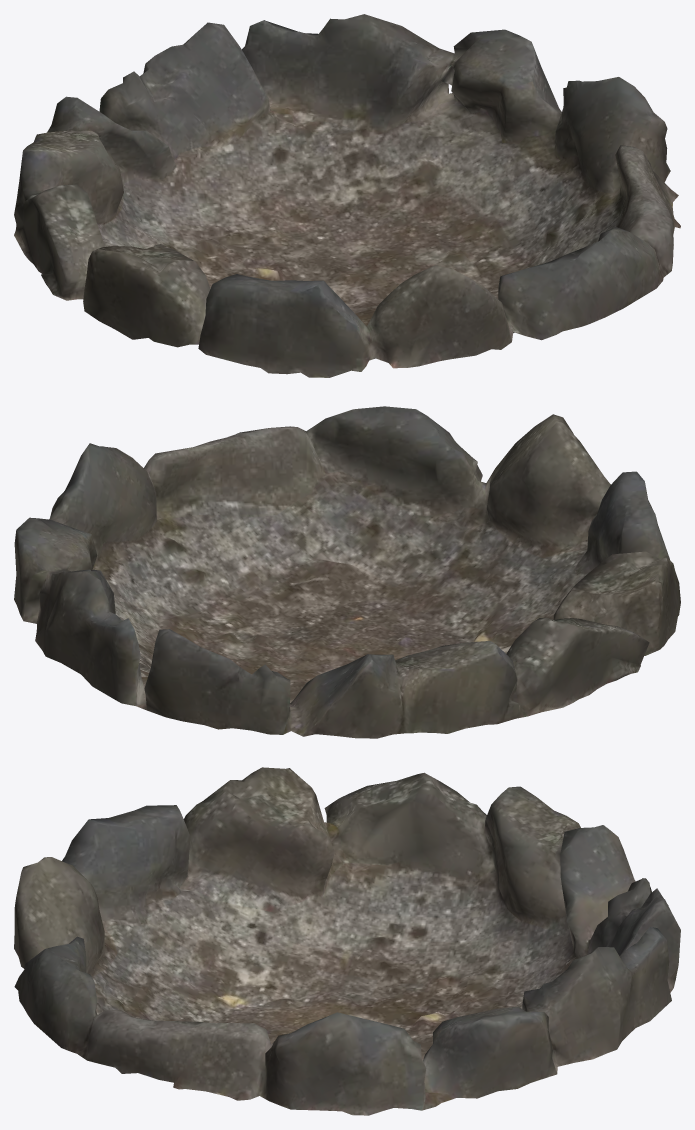
The model's file is stone_fire_pit.glb.
3 views of the same model, one above another, from view 1: azimuth 30°, elevation 25°; view 2: azimuth 150°, elevation 25°; view 3: azimuth 270°, elevation 25° (orthographic).
Parts seen in each view (by area): view 1: stone_fire_pit; view 2: stone_fire_pit; view 3: stone_fire_pit.
Part boxes in pixels (bbox=[...]): stone_fire_pit: bbox=[14, 14, 680, 377]; stone_fire_pit: bbox=[14, 406, 680, 738]; stone_fire_pit: bbox=[14, 767, 680, 1115].
Bounding box in the file's own units: 1.45 × 0.3883 × 1.43.
Materials: 1 (1 with a texture image).
